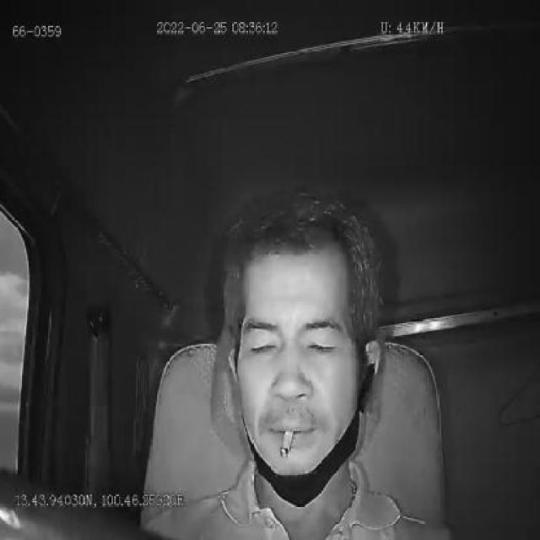smoking: (279, 429, 294, 459)
